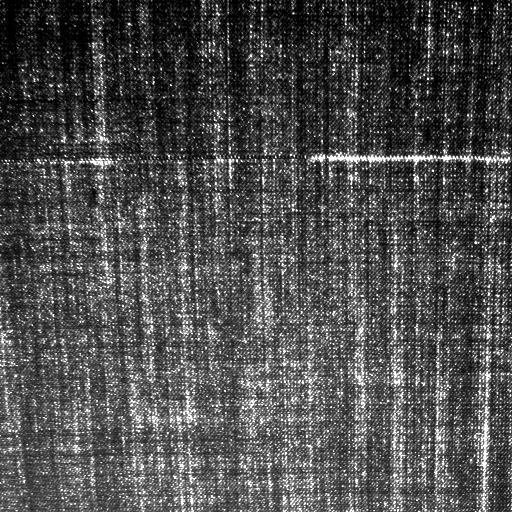fabric_broken_pick: (5, 144, 507, 172)
